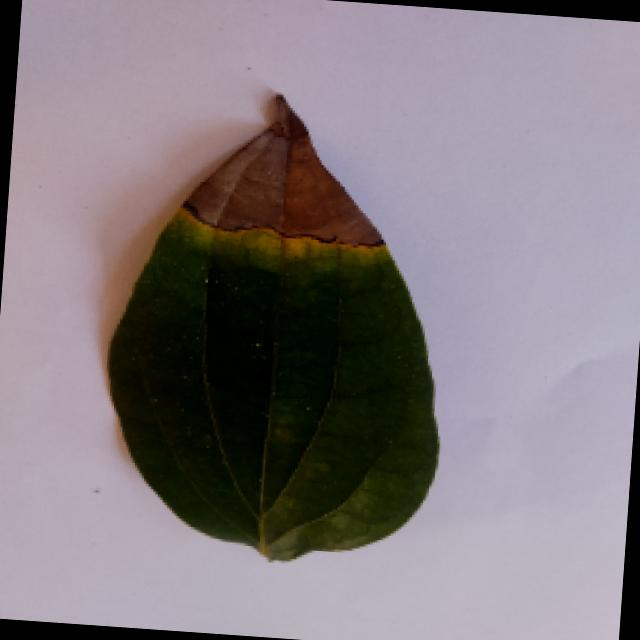footrot: (89, 81, 462, 574)
